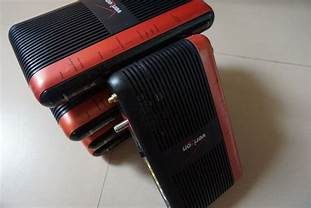Verizon Router: (1, 1, 263, 208)
